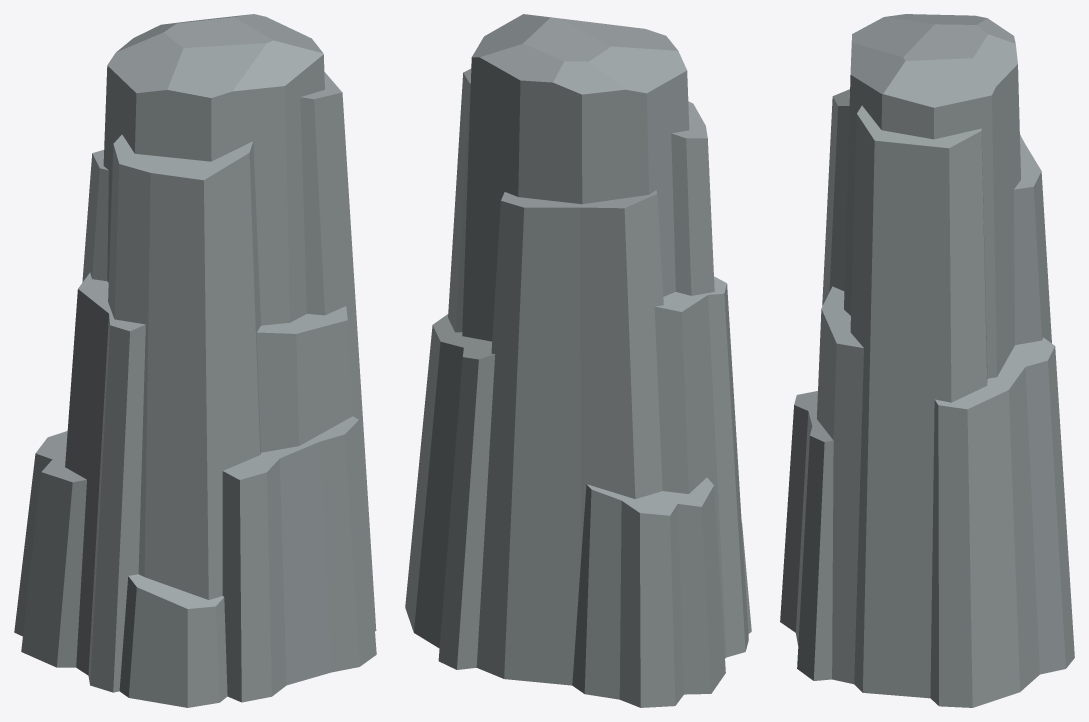
Rendered from NHP_Rock_Pillar_Round_A2_02.fbx.
The picture shows the model from 3 angles, left to right: view 1: azimuth 30°, elevation 25°; view 2: azimuth 150°, elevation 25°; view 3: azimuth 270°, elevation 25°; orthographic projection.
Parts seen in each view (by area): view 1: NHP_Rock_Pillar_Round_A2_02; view 2: NHP_Rock_Pillar_Round_A2_02; view 3: NHP_Rock_Pillar_Round_A2_02.
Part boxes in pixels (<box>): NHP_Rock_Pillar_Round_A2_02: <box>14,14,376,707</box>; NHP_Rock_Pillar_Round_A2_02: <box>405,14,751,707</box>; NHP_Rock_Pillar_Round_A2_02: <box>780,14,1074,707</box>.
Size of the model in its own units: 5.31 by 9.45 by 4.26.
